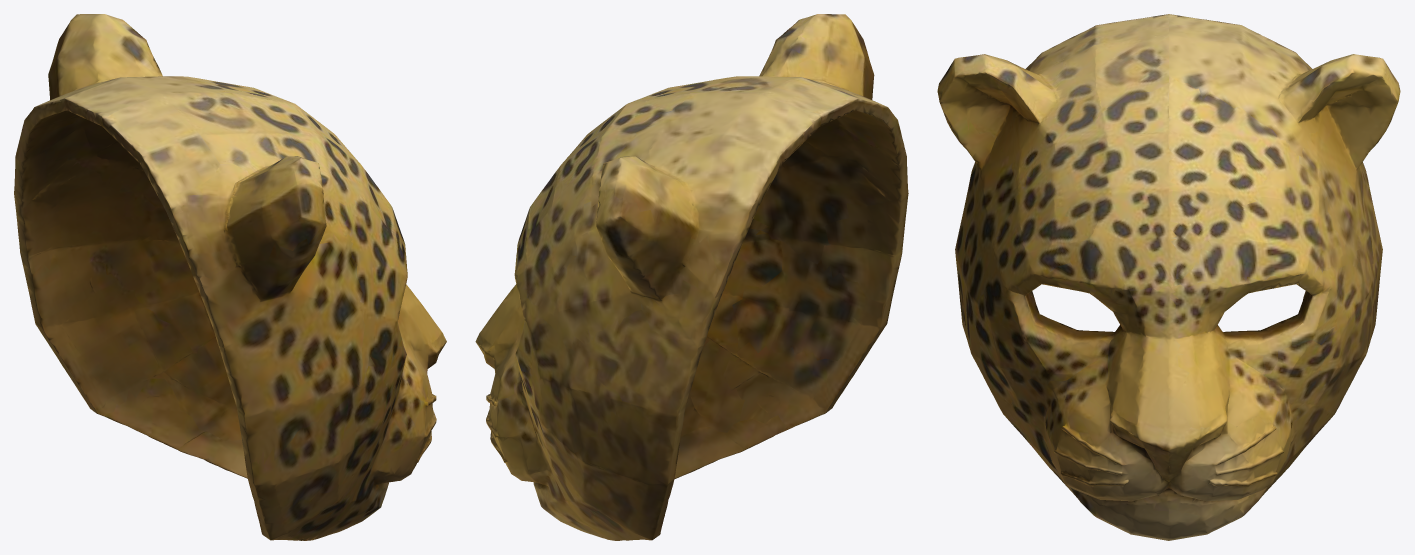
File: mascara_onca.glb
3 renders of one model, left to right at view 1: azimuth 30°, elevation 25°; view 2: azimuth 150°, elevation 25°; view 3: azimuth 270°, elevation 25°, orthographic. The views are drawn at different scales.
Parts seen in each view (by area): view 1: tripo_node_effab206-b364-46b9-8f18-99768e714429; view 2: tripo_node_effab206-b364-46b9-8f18-99768e714429; view 3: tripo_node_effab206-b364-46b9-8f18-99768e714429.
Part boxes in pixels (<box>): tripo_node_effab206-b364-46b9-8f18-99768e714429: <box>14,14,446,540</box>; tripo_node_effab206-b364-46b9-8f18-99768e714429: <box>475,14,908,540</box>; tripo_node_effab206-b364-46b9-8f18-99768e714429: <box>937,14,1400,540</box>.
Size of the model in its own units: 0.7666 by 1 by 0.9767.
1 material, 1 textured.
